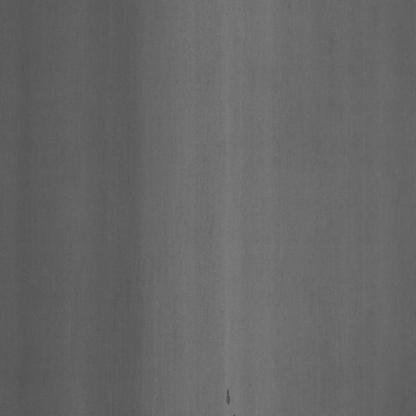inclusion: (221, 381, 234, 409)
